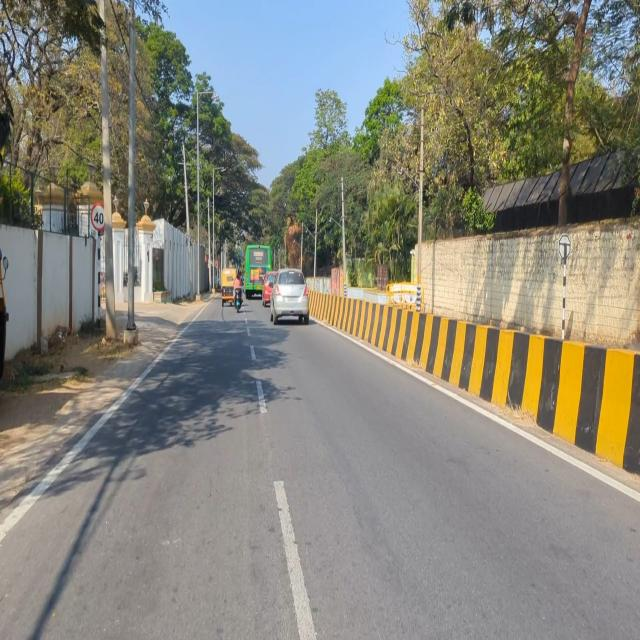bien_cam: (92, 202, 104, 233)
